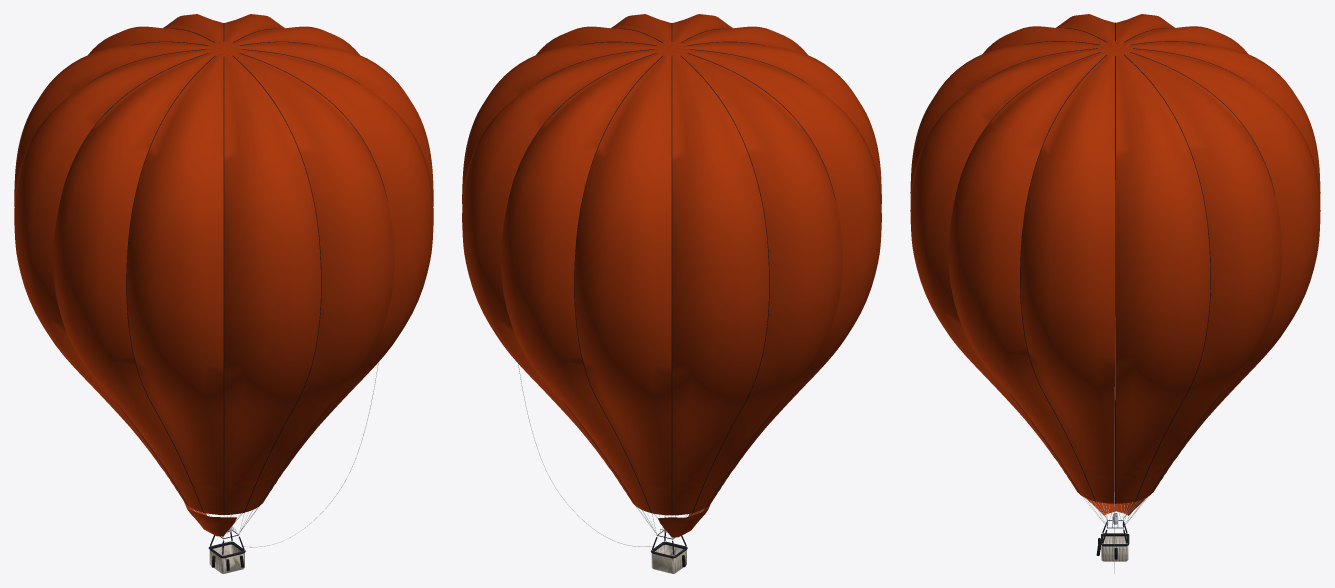
The model's file is globoaerostatico05_definitivo02.obj.
3 views of the same model, side by side, from view 1: azimuth 30°, elevation 25°; view 2: azimuth 150°, elevation 25°; view 3: azimuth 270°, elevation 25° (orthographic). The views are drawn at different scales.
Parts seen in each view (by area): view 1: Globo_Tela, Cuerdas_de_La_tela Form84, Barquilla, Paraviento, Cuerdas_de_La_tela Form90, Cuerdas_de_La_tela Form89; view 2: Globo_Tela, Cuerdas_de_La_tela Form82, Barquilla, Paraviento, Cuerdas_de_La_tela Form87, Cuerdas_de_La_tela Form88; view 3: Globo_Tela, Barquilla, Cuerdas_de_La_tela Form86, Cuerdas_de_La_tela Form91.
Boxes of the visible parts, <box> form: Globo_Tela: <box>14,14,433,514</box>; Cuerdas_de_La_tela Form84: <box>223,57,224,514</box>; Barquilla: <box>209,544,244,573</box>; Paraviento: <box>184,502,236,536</box>; Cuerdas_de_La_tela Form90: <box>233,56,321,512</box>; Cuerdas_de_La_tela Form89: <box>126,56,214,512</box>; Globo_Tela: <box>462,14,881,515</box>; Cuerdas_de_La_tela Form82: <box>671,57,672,515</box>; Barquilla: <box>651,544,686,573</box>; Paraviento: <box>658,504,710,537</box>; Cuerdas_de_La_tela Form87: <box>574,56,662,513</box>; Cuerdas_de_La_tela Form88: <box>681,56,769,513</box>; Globo_Tela: <box>910,14,1320,503</box>; Barquilla: <box>1101,536,1128,561</box>; Cuerdas_de_La_tela Form86: <box>1124,54,1210,501</box>; Cuerdas_de_La_tela Form91: <box>1020,54,1106,501</box>.
Size of the model in its own units: 0.5027 by 0.6859 by 0.5027.
Materials: 5 (1 with a texture image).
